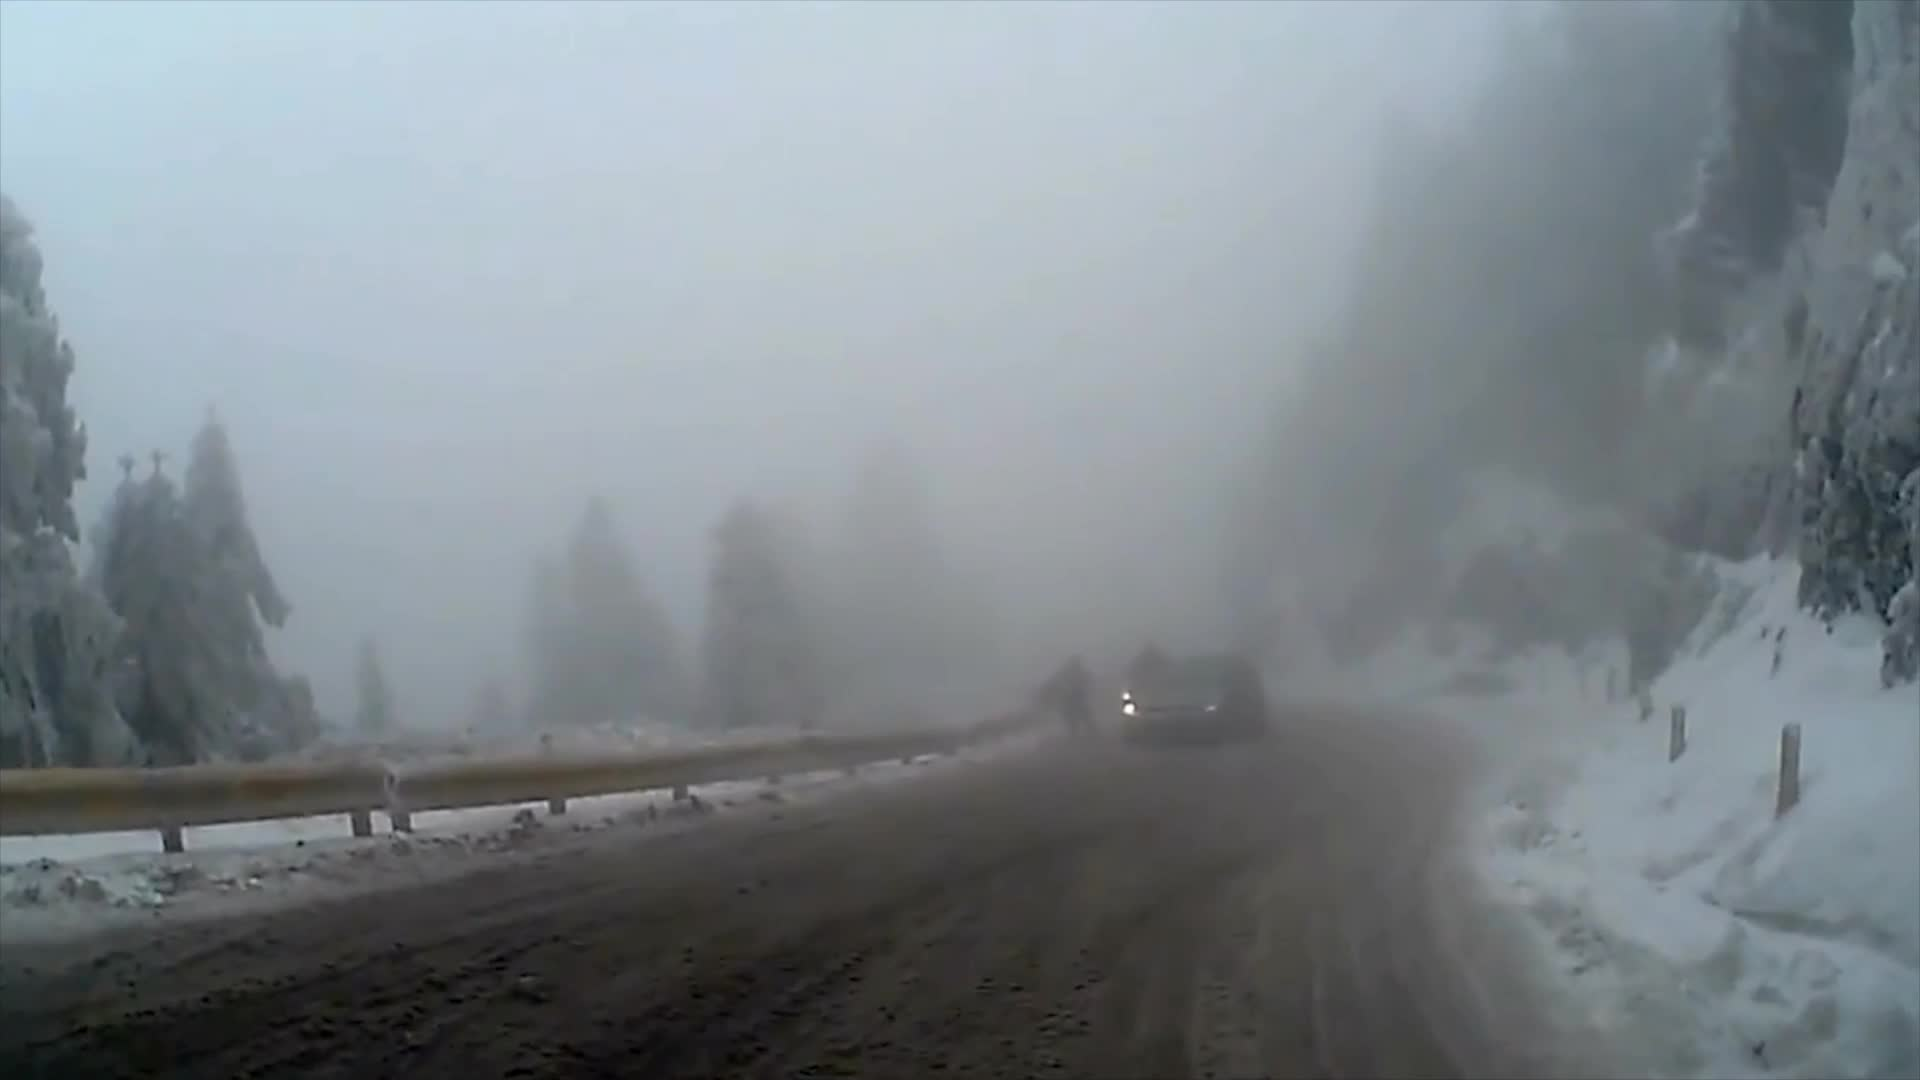vehicle: (1113, 651, 1267, 750)
